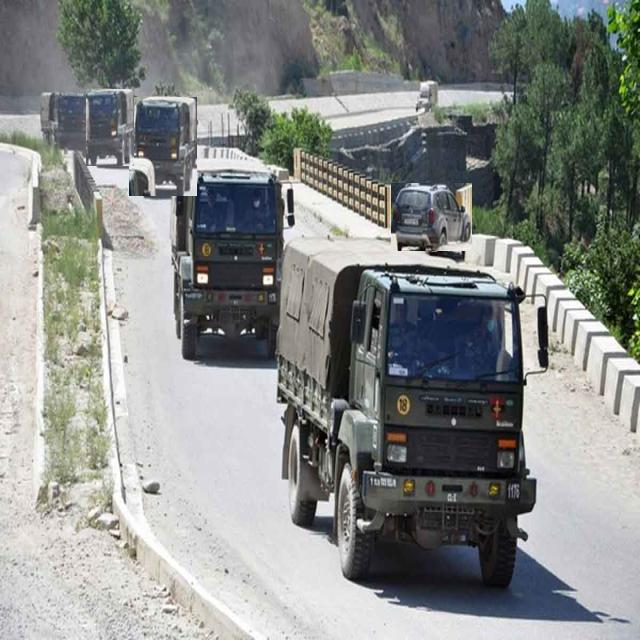car: (391, 184, 472, 251)
truck: (278, 240, 536, 586), (171, 158, 284, 358), (130, 97, 197, 196), (86, 90, 134, 166), (40, 92, 86, 151)
